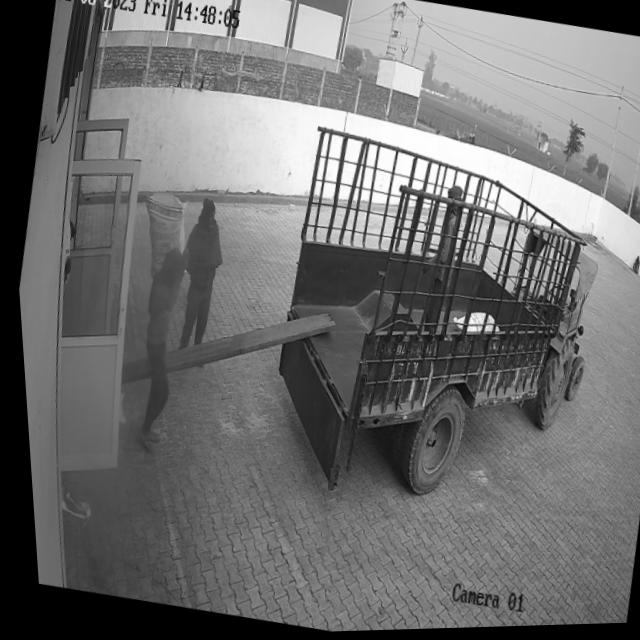sack: (127, 189, 191, 288)
